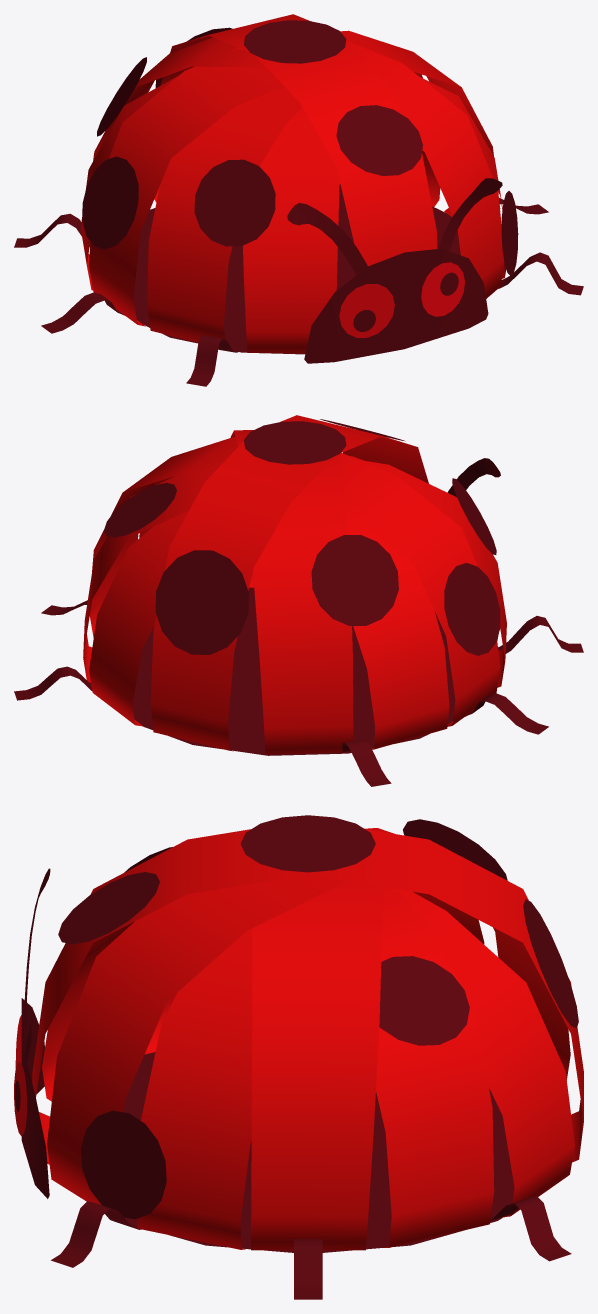
Rendered from ladybug.fbx.
3 renders of one model, top to bottom at view 1: azimuth 30°, elevation 25°; view 2: azimuth 150°, elevation 25°; view 3: azimuth 270°, elevation 25°, orthographic. The views are drawn at different scales.
Parts seen in each view (by area): view 1: Circle; view 2: Circle; view 3: Circle.
Boxes of the visible parts, bbox=[...] form: Circle: bbox=[14, 14, 583, 386]; Circle: bbox=[14, 415, 583, 786]; Circle: bbox=[14, 815, 583, 1299].
Size of the model in its own units: 26.24 by 11.44 by 19.89.
